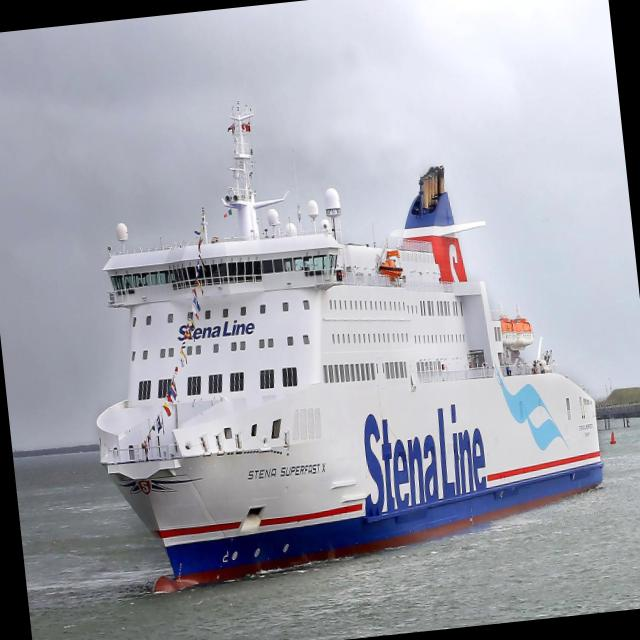boat: (51, 86, 640, 614)
